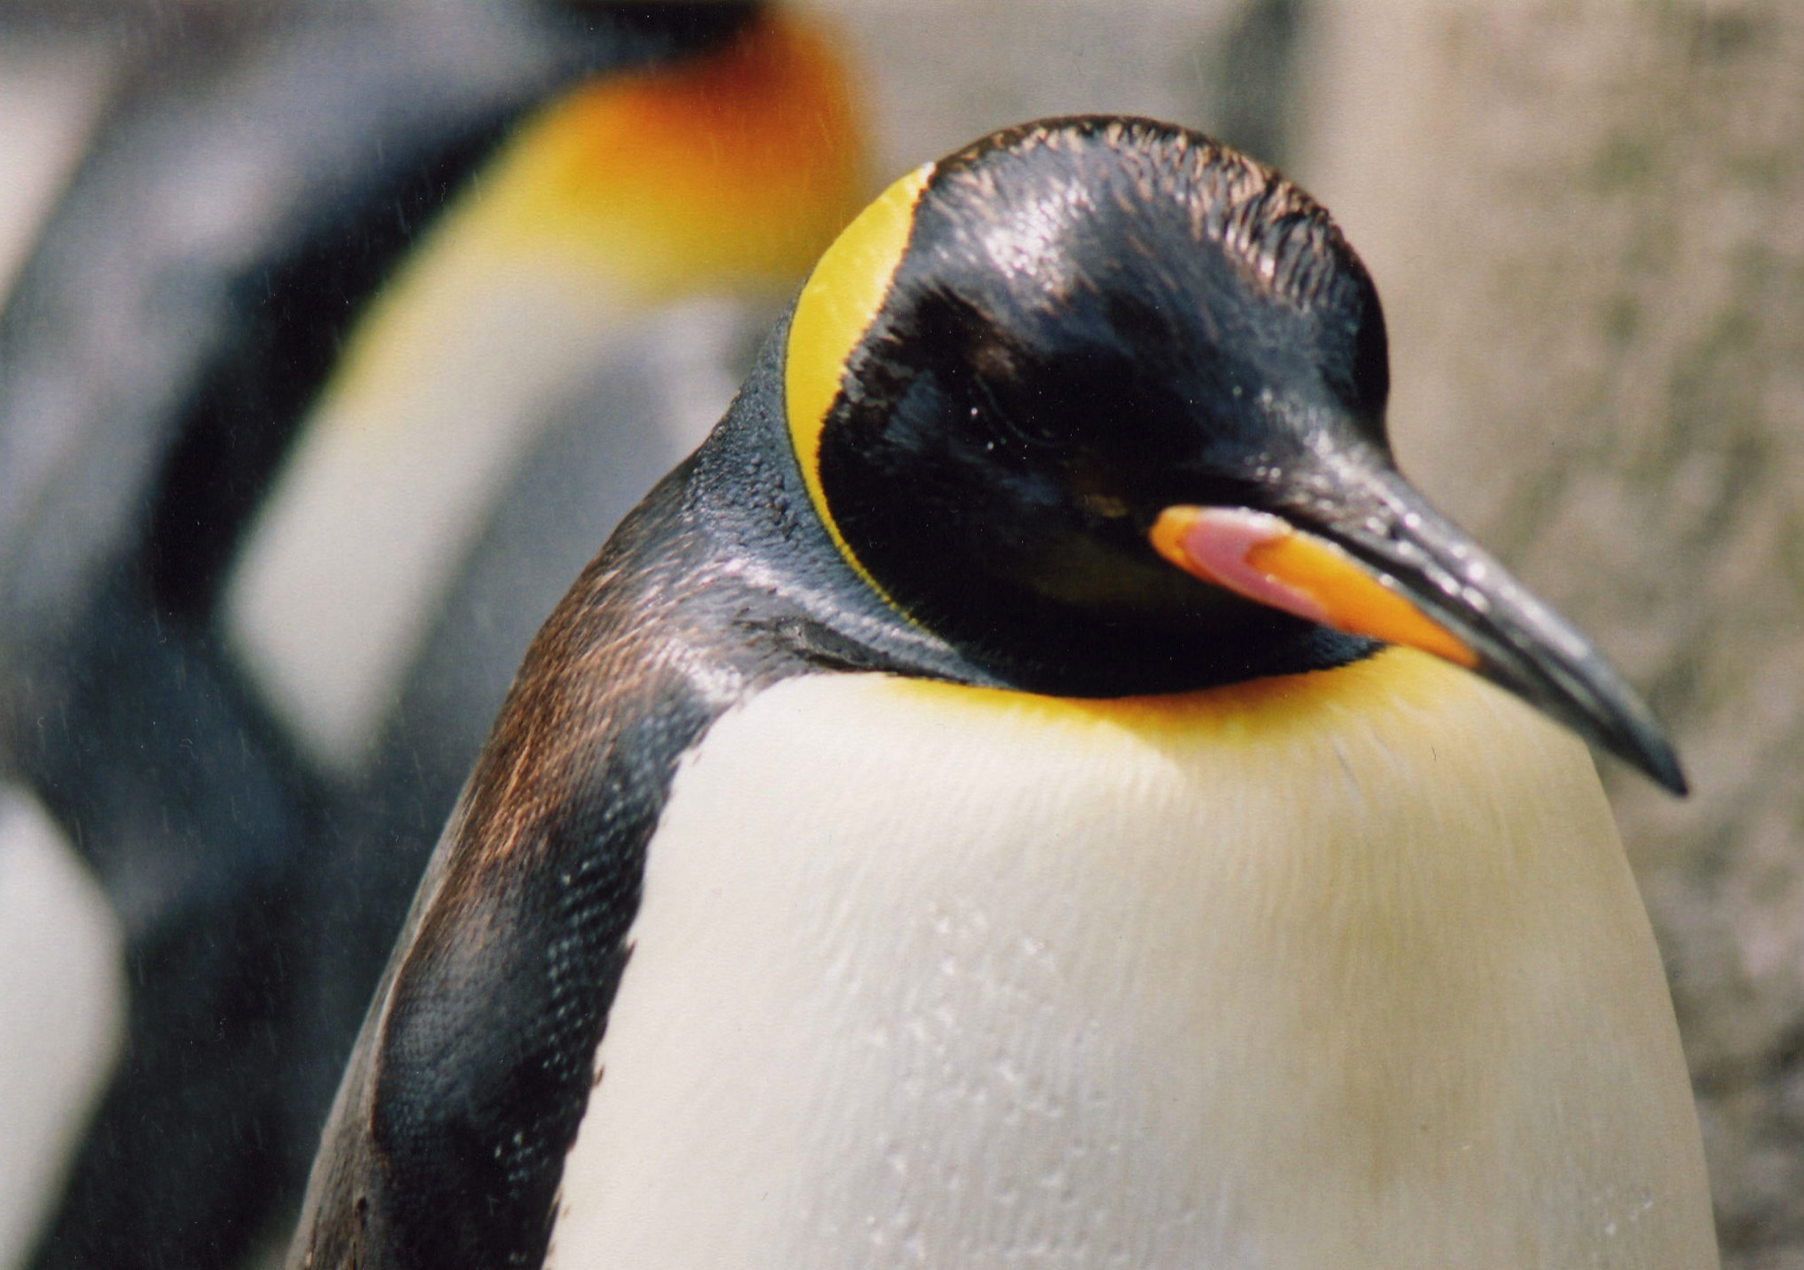penguin: (275, 110, 1717, 1270)
